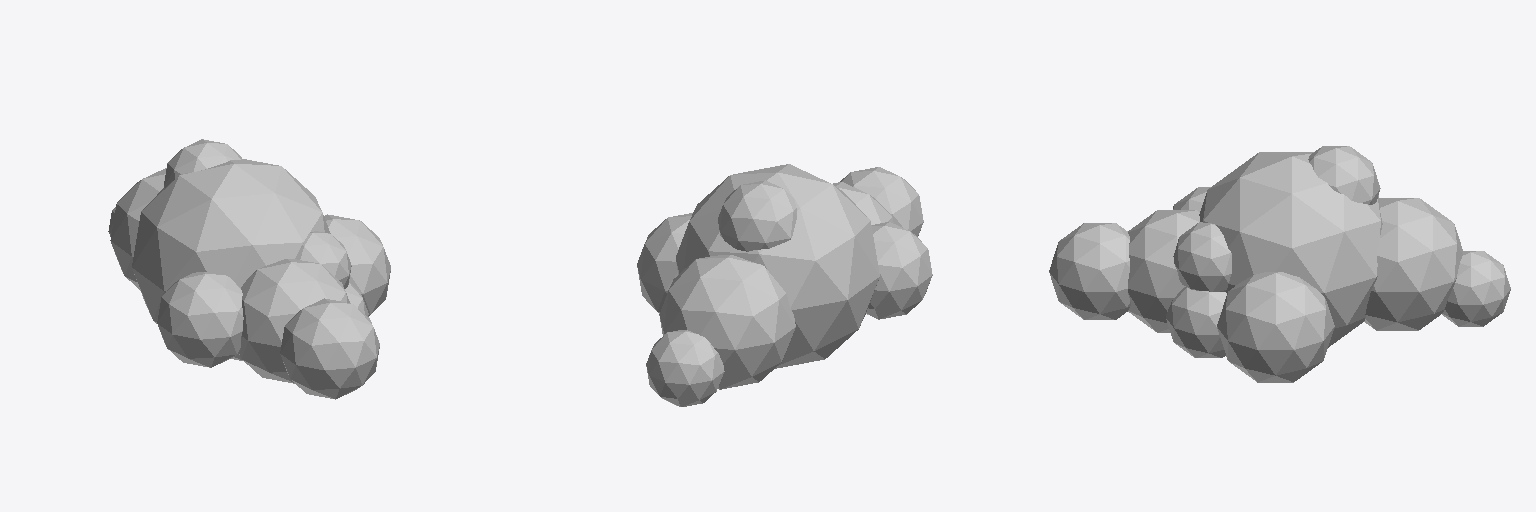
The model's file is cloud2.obj.
3 renders of one model, left to right at view 1: azimuth 30°, elevation 25°; view 2: azimuth 150°, elevation 25°; view 3: azimuth 270°, elevation 25°, orthographic.
Parts seen in each view (by area): view 1: Icosphere.001; view 2: Icosphere.001; view 3: Icosphere.001.
Boxes of the visible parts, <box> form: Icosphere.001: <box>108,139,390,399</box>; Icosphere.001: <box>637,164,932,406</box>; Icosphere.001: <box>1049,146,1510,382</box>.
Bounding box in the file's own units: 4.61 × 3.47 × 7.44.